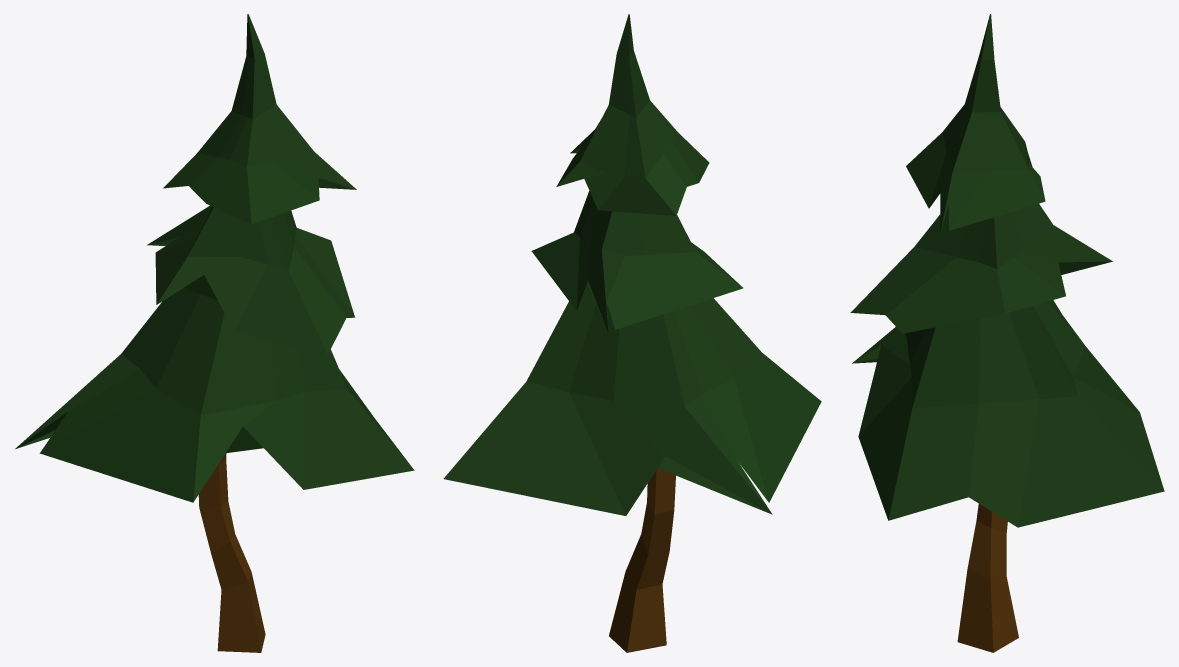
File: pointyTree.fbx
3 views of the same model, side by side, from view 1: azimuth 30°, elevation 25°; view 2: azimuth 150°, elevation 25°; view 3: azimuth 270°, elevation 25° (orthographic).
Parts seen in each view (by area): view 1: Cylinder.005; view 2: Cylinder.005; view 3: Cylinder.005.
Boxes of the visible parts, left/top/right/bottom form: Cylinder.005: left=15, top=14, right=414, bottom=652; Cylinder.005: left=443, top=14, right=821, bottom=652; Cylinder.005: left=850, top=14, right=1164, bottom=652.
Bounding box in the file's own units: 23406 × 45430 × 20554.
